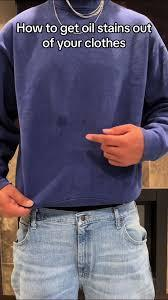mustard: (97, 162, 120, 177), (53, 112, 67, 124), (89, 149, 101, 163)
